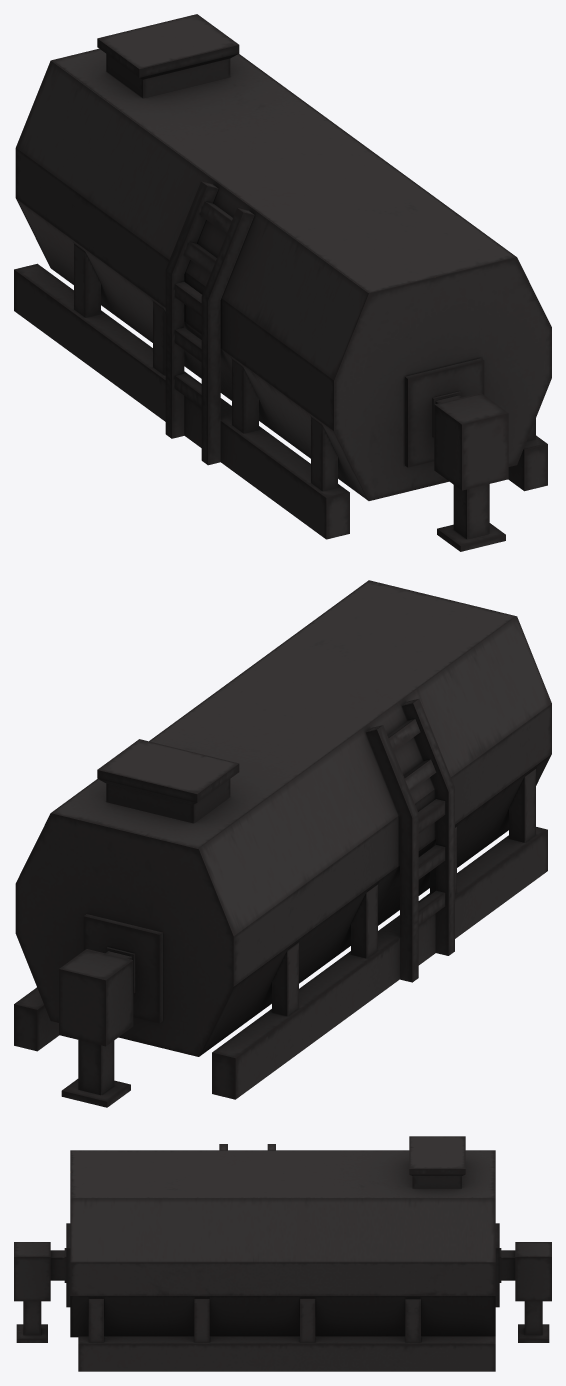
File: Resource_Tank.fbx
The picture shows the model from 3 angles, top to bottom: view 1: azimuth 30°, elevation 25°; view 2: azimuth 150°, elevation 25°; view 3: azimuth 270°, elevation 25°; orthographic projection. The views are drawn at different scales.
Visible parts, largest first — view 1: Box016; view 2: Box016; view 3: Box016.
Part boxes in pixels (<box>): Box016: <box>14,14,551,551</box>; Box016: <box>14,580,551,1107</box>; Box016: <box>14,1136,551,1371</box>.
Size of the model in its own units: 113 by 126 by 335.
